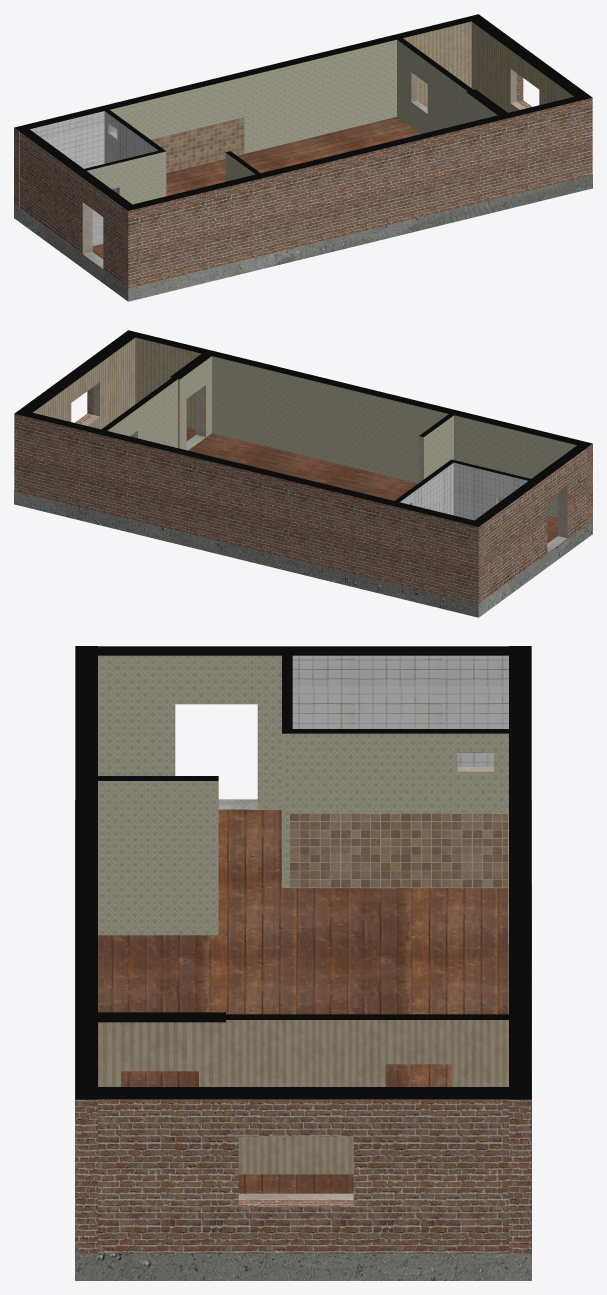
3 renders of one model, top to bottom at view 1: azimuth 30°, elevation 25°; view 2: azimuth 150°, elevation 25°; view 3: azimuth 270°, elevation 25°, orthographic. The views are drawn at different scales.
Visible parts, largest first — view 1: Apartement-1; view 2: Apartement-1; view 3: Apartement-1.
Part boxes in pixels (<box>): Apartement-1: <box>14,14,592,301</box>; Apartement-1: <box>14,330,592,617</box>; Apartement-1: <box>75,646,531,1280</box>.
Size of the model in its own units: 22.74 by 4.24 by 9.68.
Materials: 10 (9 with a texture image).
